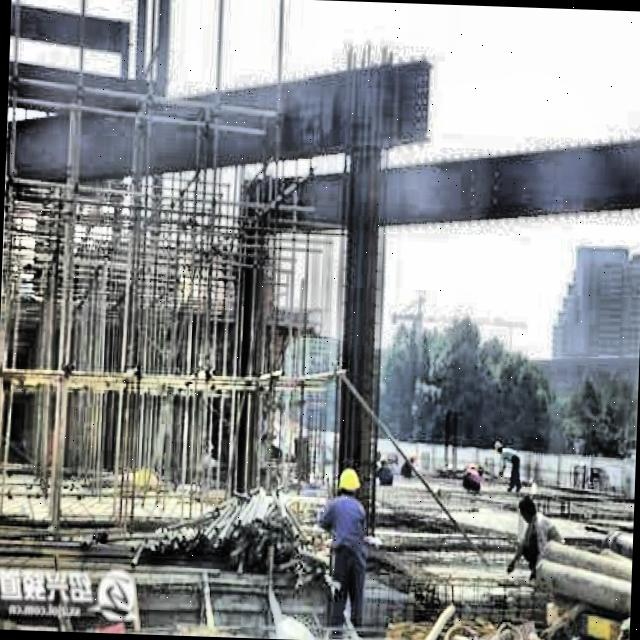helmet: (336, 464, 364, 506)
